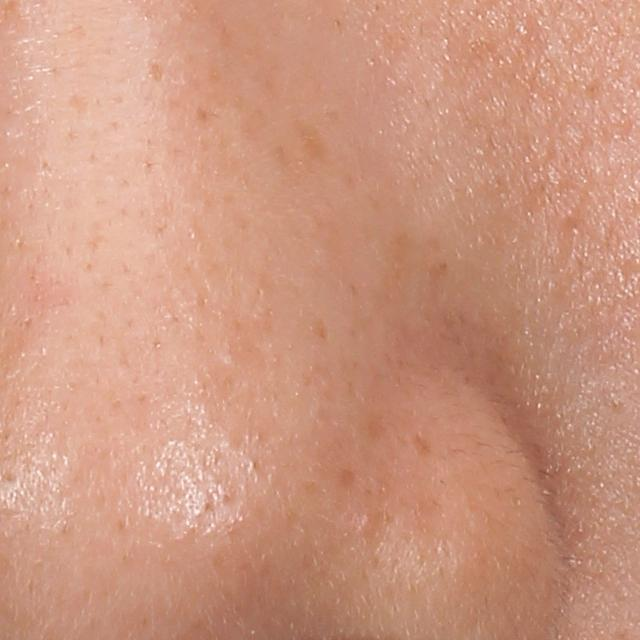melasma: (292, 113, 337, 170), (147, 59, 167, 87)
